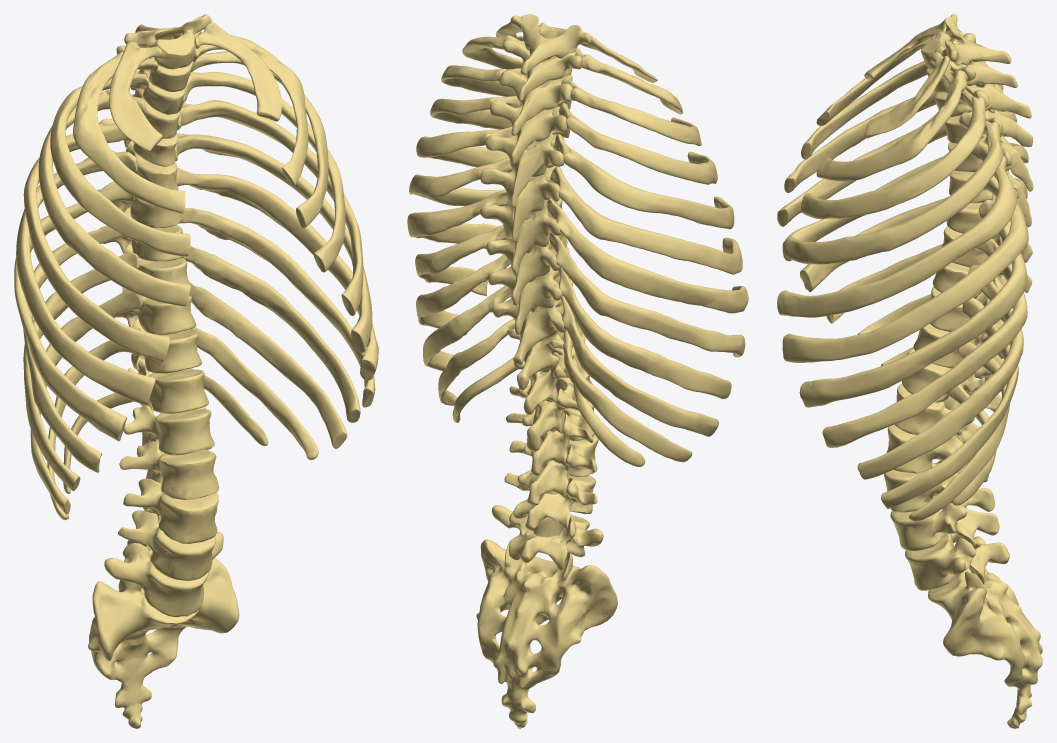
File: spine-trunk.glb
3 views of the same model, side by side, from view 1: azimuth 30°, elevation 25°; view 2: azimuth 150°, elevation 25°; view 3: azimuth 270°, elevation 25° (orthographic). The views are drawn at different scales.
Visible parts, largest first — view 1: spine-trunk:sacrum:isa:FJ3393, spine-trunk:sixth-rib:isa:FJ3344, spine-trunk:fourth-rib:isa:FJ3340, spine-trunk:fifth-rib:isa:FJ3342, spine-trunk:third-rib:isa:FJ3338, spine-trunk:second-rib:isa:FJ3336, spine-trunk:ninth-rib:isa:FJ3236, spine-trunk:seventh-rib:isa:FJ3234, spine-trunk:seventh-rib:isa:FJ3346, spine-trunk:eighth-rib:isa:FJ3235, spine-trunk:tenth-rib:isa:FJ3225, spine-trunk:fifth-rib:isa:FJ3232 (+30 smaller); view 2: spine-trunk:sacrum:isa:FJ3393, spine-trunk:seventh-rib:isa:FJ3346, spine-trunk:sixth-rib:isa:FJ3344, spine-trunk:eighth-rib:isa:FJ3347, spine-trunk:fifth-rib:isa:FJ3342, spine-trunk:ninth-rib:isa:FJ3348, spine-trunk:tenth-rib:isa:FJ3330, spine-trunk:fifth-lumbar-vertebra:isa:FJ3168, spine-trunk:fourth-rib:isa:FJ3340, spine-trunk:eleventh-rib:isa:FJ3331, spine-trunk:fourth-lumbar-vertebra:isa:FJ3165, spine-trunk:seventh-rib:isa:FJ3234 (+29 smaller); view 3: spine-trunk:sacrum:isa:FJ3393, spine-trunk:sixth-rib:isa:FJ3233, spine-trunk:fifth-rib:isa:FJ3232, spine-trunk:seventh-rib:isa:FJ3234, spine-trunk:fourth-rib:isa:FJ3231, spine-trunk:eighth-rib:isa:FJ3235, spine-trunk:third-rib:isa:FJ3230, spine-trunk:ninth-rib:isa:FJ3236, spine-trunk:second-rib:isa:FJ3229, spine-trunk:fifth-lumbar-vertebra:isa:FJ3168, spine-trunk:tenth-rib:isa:FJ3225, spine-trunk:fourth-lumbar-vertebra:isa:FJ3165 (+27 smaller).
Part boxes in pixels (<box>): spine-trunk:sacrum:isa:FJ3393: <box>88,557,239,728</box>; spine-trunk:sixth-rib:isa:FJ3344: <box>16,151,155,405</box>; spine-trunk:fourth-rib:isa:FJ3340: <box>38,91,190,306</box>; spine-trunk:fifth-rib:isa:FJ3342: <box>23,123,169,362</box>; spine-trunk:third-rib:isa:FJ3338: <box>50,73,190,256</box>; spine-trunk:second-rib:isa:FJ3336: <box>73,51,185,213</box>; spine-trunk:ninth-rib:isa:FJ3236: <box>182,246,360,422</box>; spine-trunk:seventh-rib:isa:FJ3234: <box>176,167,378,380</box>; spine-trunk:seventh-rib:isa:FJ3346: <box>14,181,135,441</box>; spine-trunk:eighth-rib:isa:FJ3235: <box>179,208,375,407</box>; spine-trunk:tenth-rib:isa:FJ3225: <box>189,282,347,448</box>; spine-trunk:fifth-rib:isa:FJ3232: <box>177,100,363,315</box>; spine-trunk:sacrum:isa:FJ3393: <box>476,539,617,728</box>; spine-trunk:seventh-rib:isa:FJ3346: <box>547,197,748,313</box>; spine-trunk:sixth-rib:isa:FJ3344: <box>550,166,742,274</box>; spine-trunk:eighth-rib:isa:FJ3347: <box>549,233,745,357</box>; spine-trunk:fifth-rib:isa:FJ3342: <box>553,134,734,229</box>; spine-trunk:ninth-rib:isa:FJ3348: <box>558,267,731,399</box>; spine-trunk:tenth-rib:isa:FJ3330: <box>561,295,718,436</box>; spine-trunk:fifth-lumbar-vertebra:isa:FJ3168: <box>491,505,603,570</box>; spine-trunk:fourth-rib:isa:FJ3340: <box>559,103,717,184</box>; spine-trunk:eleventh-rib:isa:FJ3331: <box>563,330,692,462</box>; spine-trunk:fourth-lumbar-vertebra:isa:FJ3165: <box>504,469,597,530</box>; spine-trunk:seventh-rib:isa:FJ3234: <box>407,190,508,254</box>; spine-trunk:sacrum:isa:FJ3393: <box>928,536,1042,728</box>; spine-trunk:sixth-rib:isa:FJ3233: <box>782,176,1028,362</box>; spine-trunk:fifth-rib:isa:FJ3232: <box>777,141,1016,317</box>; spine-trunk:seventh-rib:isa:FJ3234: <box>799,200,1027,407</box>; spine-trunk:fourth-rib:isa:FJ3231: <box>784,112,1003,264</box>; spine-trunk:eighth-rib:isa:FJ3235: <box>822,238,1027,447</box>; spine-trunk:third-rib:isa:FJ3230: <box>801,89,985,219</box>; spine-trunk:ninth-rib:isa:FJ3236: <box>857,265,1023,479</box>; spine-trunk:second-rib:isa:FJ3229: <box>816,68,967,181</box>; spine-trunk:fifth-lumbar-vertebra:isa:FJ3168: <box>905,533,1009,590</box>; spine-trunk:tenth-rib:isa:FJ3225: <box>881,297,1018,508</box>; spine-trunk:fourth-lumbar-vertebra:isa:FJ3165: <box>890,496,999,551</box>.
Size of the model in its own units: 0.2729 by 0.5941 by 0.2049.
